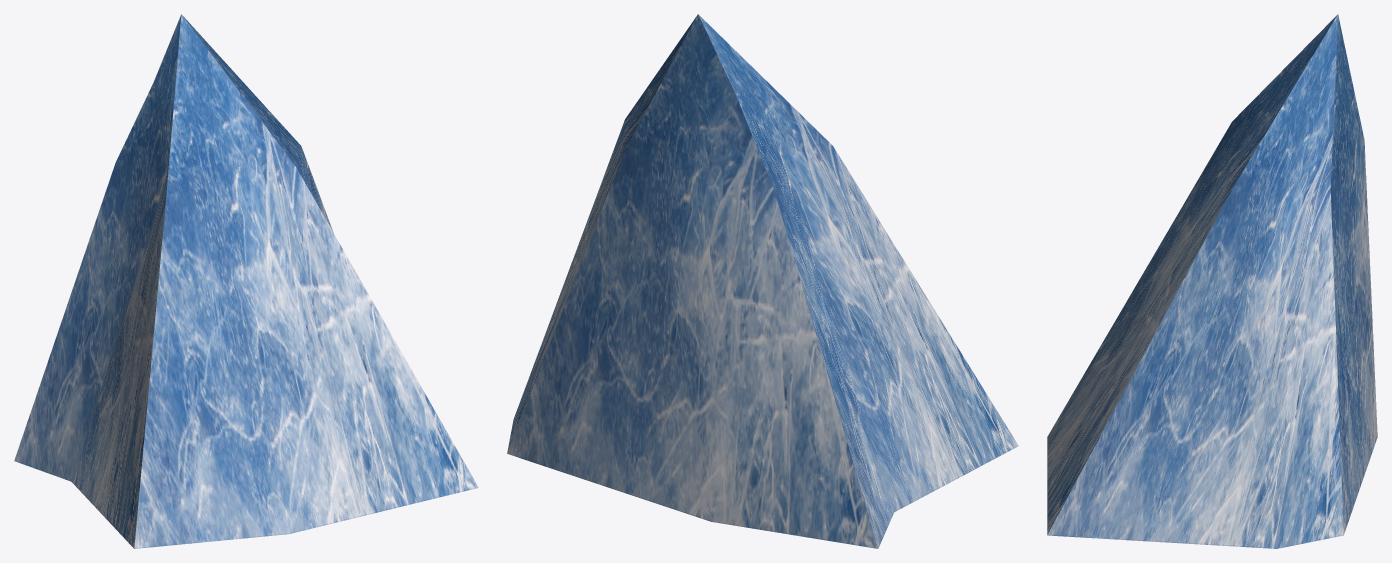
File: ice_cube.FBX
3 renders of one model, left to right at view 1: azimuth 30°, elevation 25°; view 2: azimuth 150°, elevation 25°; view 3: azimuth 270°, elevation 25°, orthographic. The views are drawn at different scales.
Parts seen in each view (by area): view 1: Pyramid001; view 2: Pyramid001; view 3: Pyramid001.
Part boxes in pixels (box(x1,y1,x2,y2)): Pyramid001: box(14, 14, 478, 548); Pyramid001: box(507, 14, 1018, 548); Pyramid001: box(1047, 14, 1377, 548).
Bounding box in the file's own units: 58.01 × 65.95 × 45.05.
Materials: 1 (1 with a texture image).
